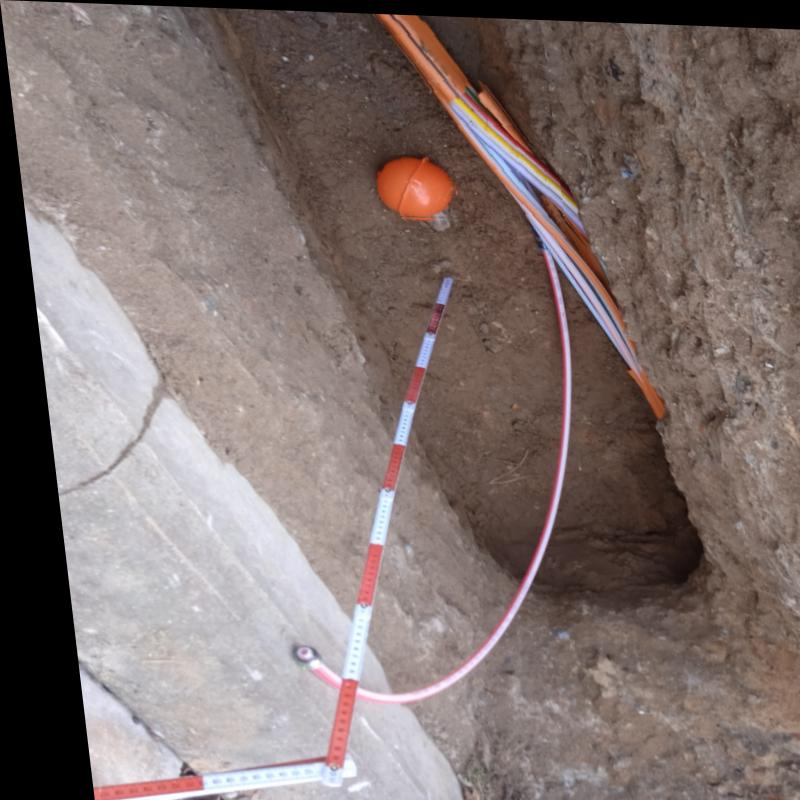Kugelmarker: (371, 151, 450, 215)
Orang-Speednetrohrchen: (373, 16, 557, 233)
